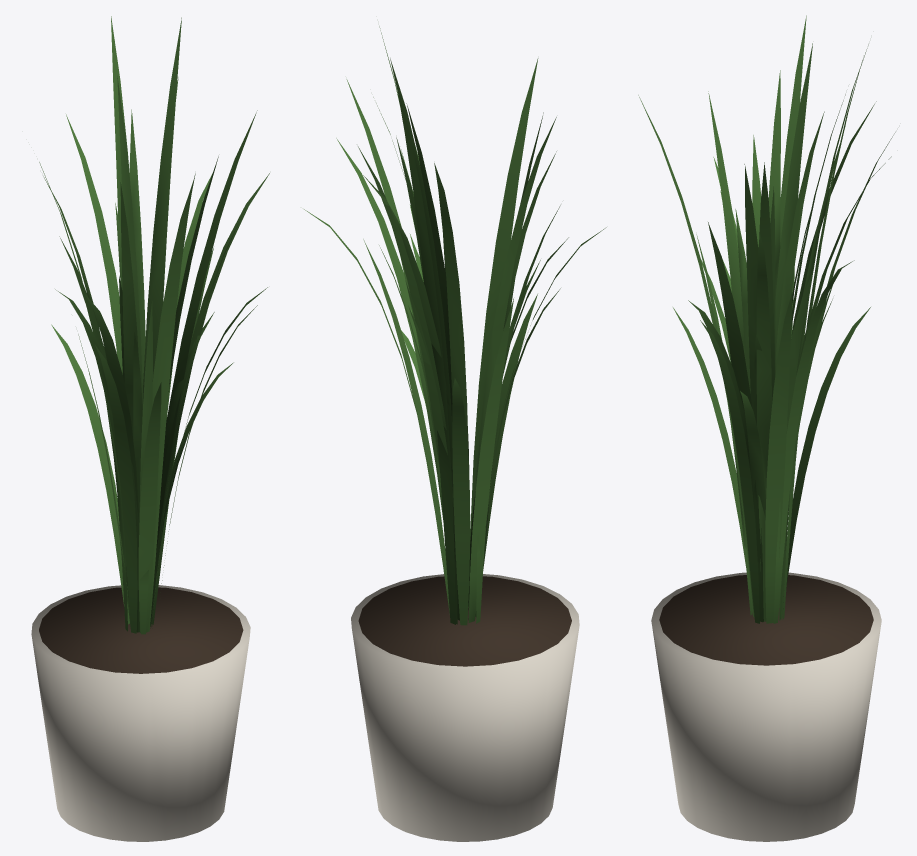
The model's file is plante.glb.
3 renders of one model, left to right at view 1: azimuth 30°, elevation 25°; view 2: azimuth 150°, elevation 25°; view 3: azimuth 270°, elevation 25°, orthographic. The views are drawn at different scales.
Parts seen in each view (by area): view 1: feuilles, pot, terre; view 2: feuilles, pot, terre; view 3: feuilles, pot, terre.
Boxes of the visible parts, x1,y1,x2,y2 form: feuilles: (39,16,269,634); pot: (31,585,250,841); terre: (39,587,243,673); feuilles: (304,26,606,625); pot: (351,574,579,841); terre: (358,576,571,666); feuilles: (638,15,895,623); pot: (651,572,881,841); terre: (659,575,873,665).
Size of the model in its own units: 0.4281 by 1.29 by 0.3912.
